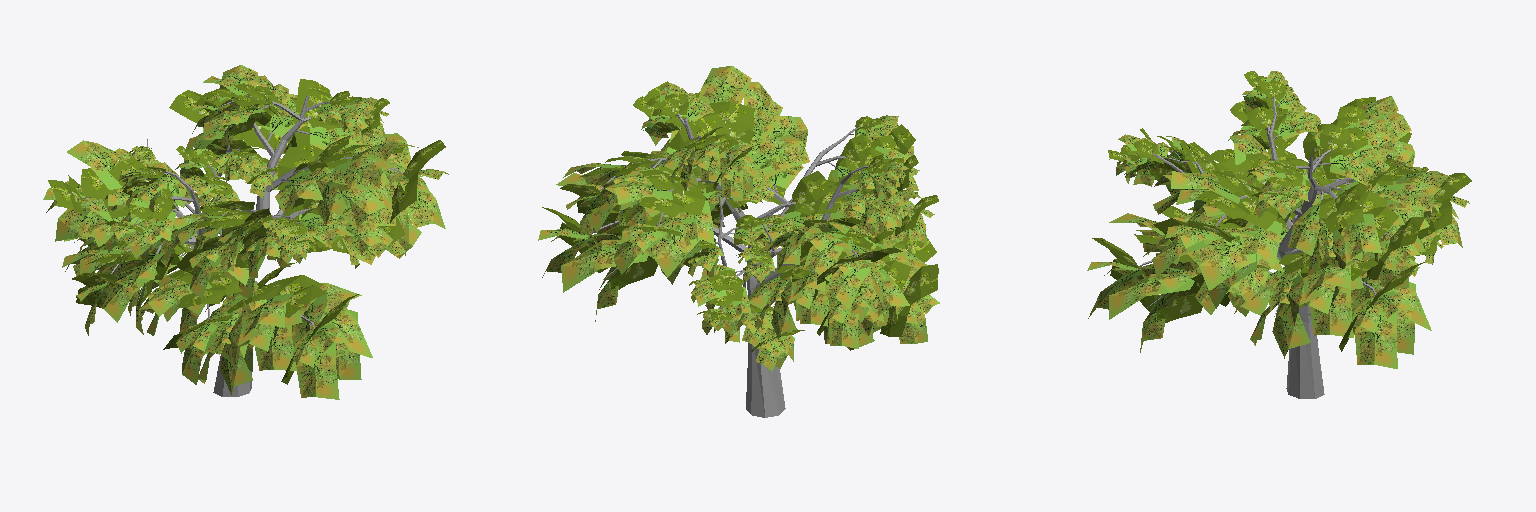
The picture shows the model from 3 angles: view 1: azimuth 30°, elevation 25°; view 2: azimuth 150°, elevation 25°; view 3: azimuth 270°, elevation 25°; orthographic projection.
Visible parts, largest first — view 1: tree_oak_joined; view 2: tree_oak_joined; view 3: tree_oak_joined.
Boxes of the visible parts, x1=… form: tree_oak_joined: x1=43, y1=65, x2=448, y2=399; tree_oak_joined: x1=538, y1=66, x2=939, y2=417; tree_oak_joined: x1=1087, y1=71, x2=1471, y2=398.
Size of the model in its own units: 5.7 by 4.35 by 5.36.
3 materials, 2 textured.